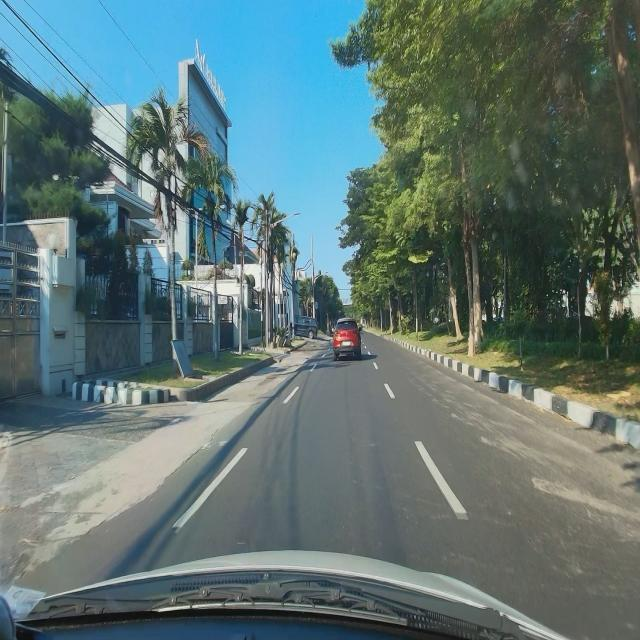car: (332, 318, 362, 362)
license-plate: (342, 340, 350, 346)
